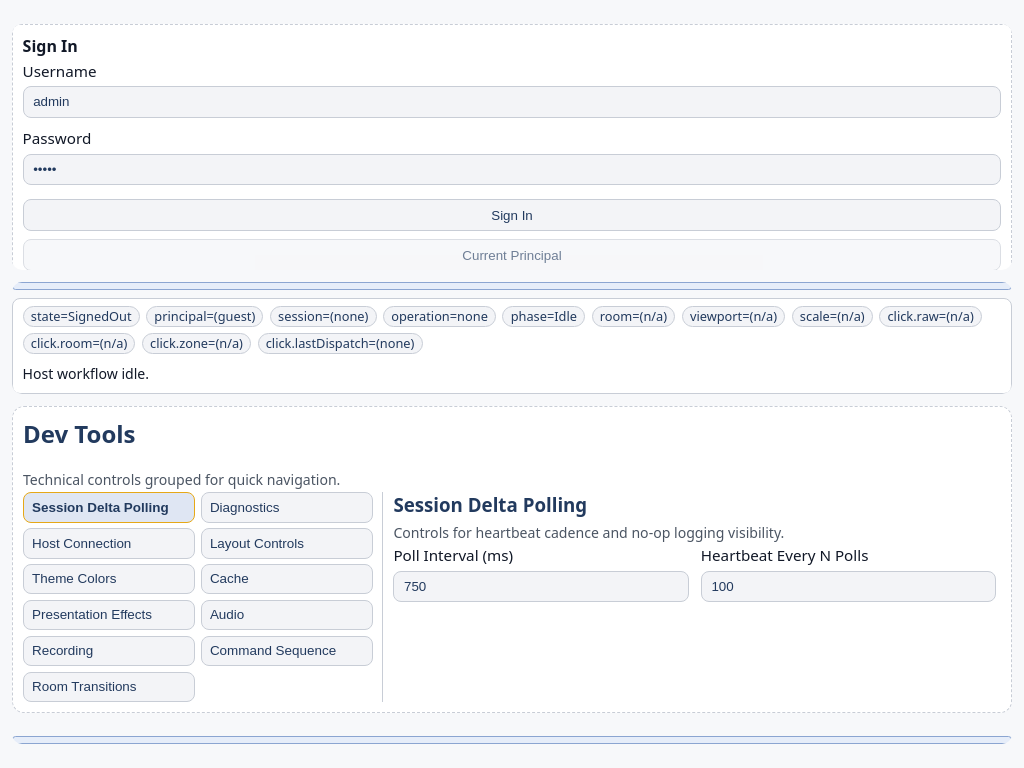
Test: App override behavior › keeps trace capture independent from console visibility and stopping
Expected: the heading "Dev Tools" is shown, 23,417 -> 136,450
Step 1. Click the button "Diagnostics" → [287, 508], box 201,492 -> 373,523
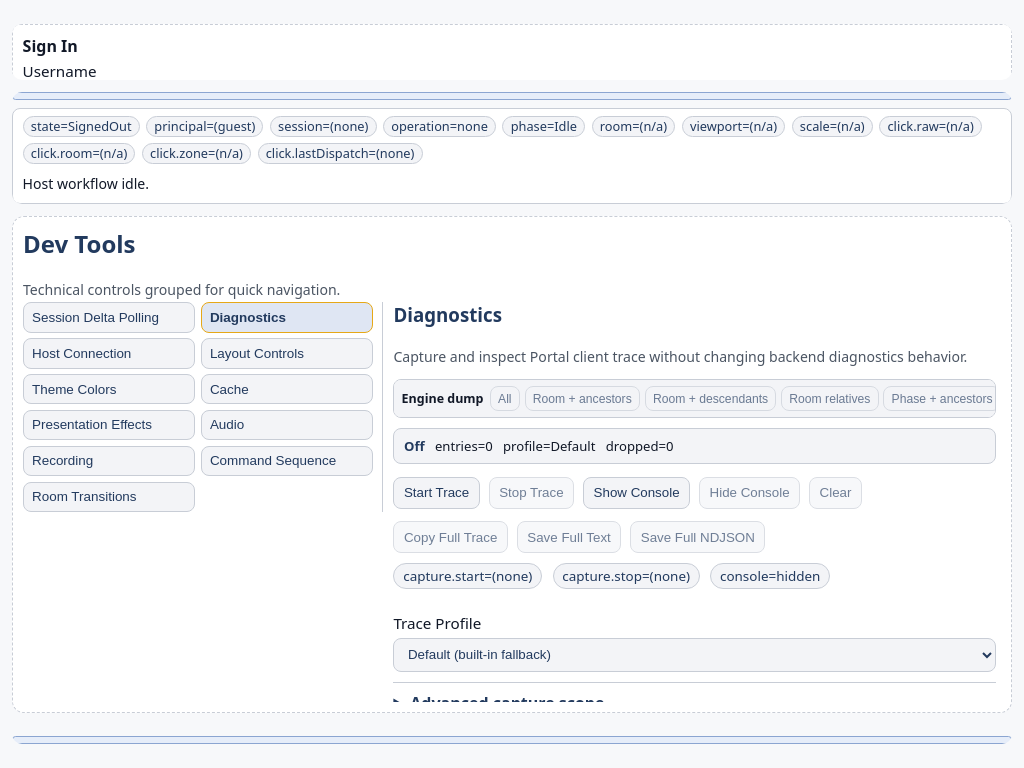
Step 2. Click the button "Start Trace" → [437, 493], box 393,477 -> 480,509
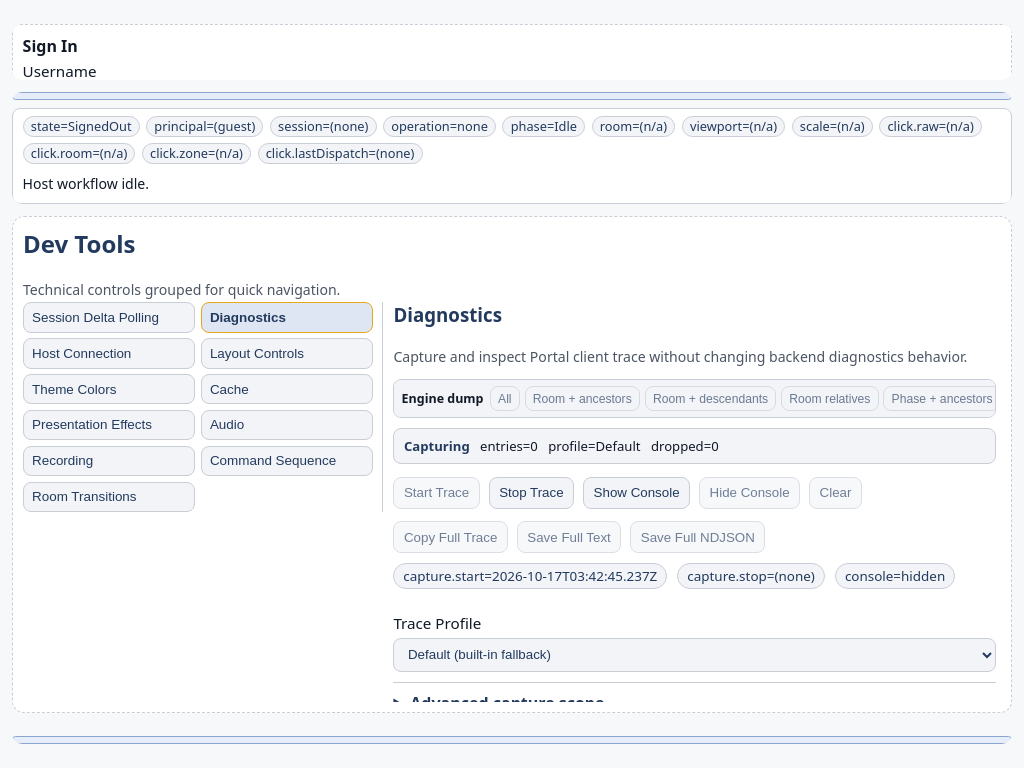
Result: the element with test id "diagnostics-capture-status" shows "Capturing" at 404,437 -> 470,455
Step 3. Click the button "Show Console" → [637, 493], box 583,477 -> 690,509
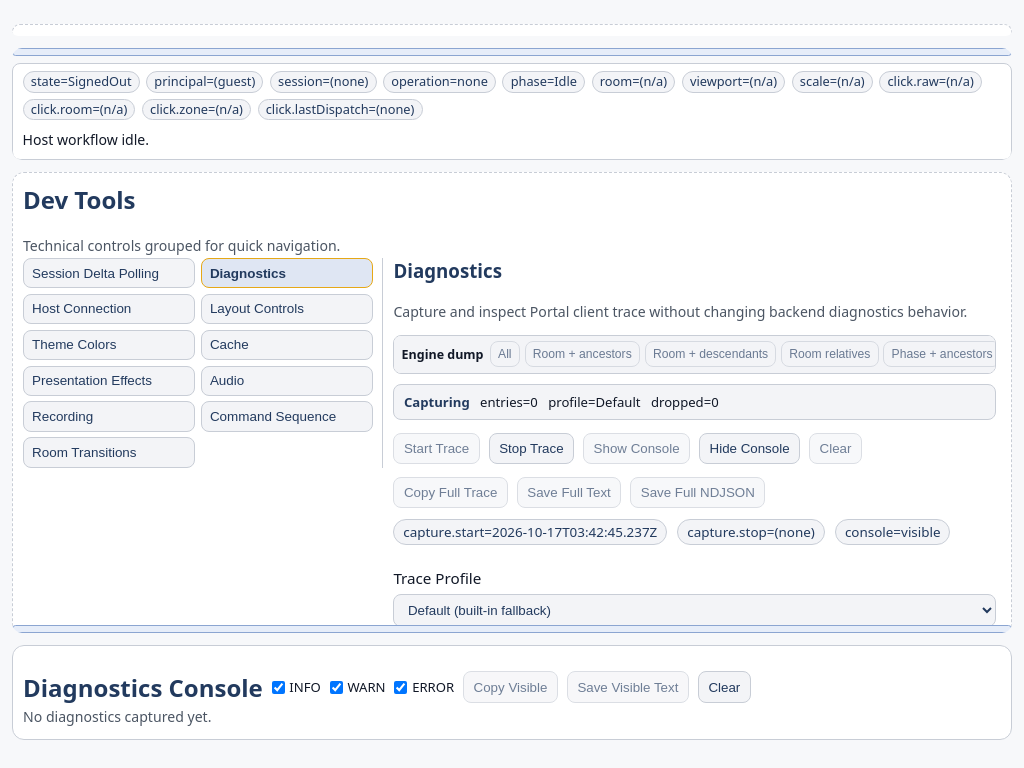
Step 4. Click the button "Hide Console" → [750, 448], box 699,433 -> 800,464
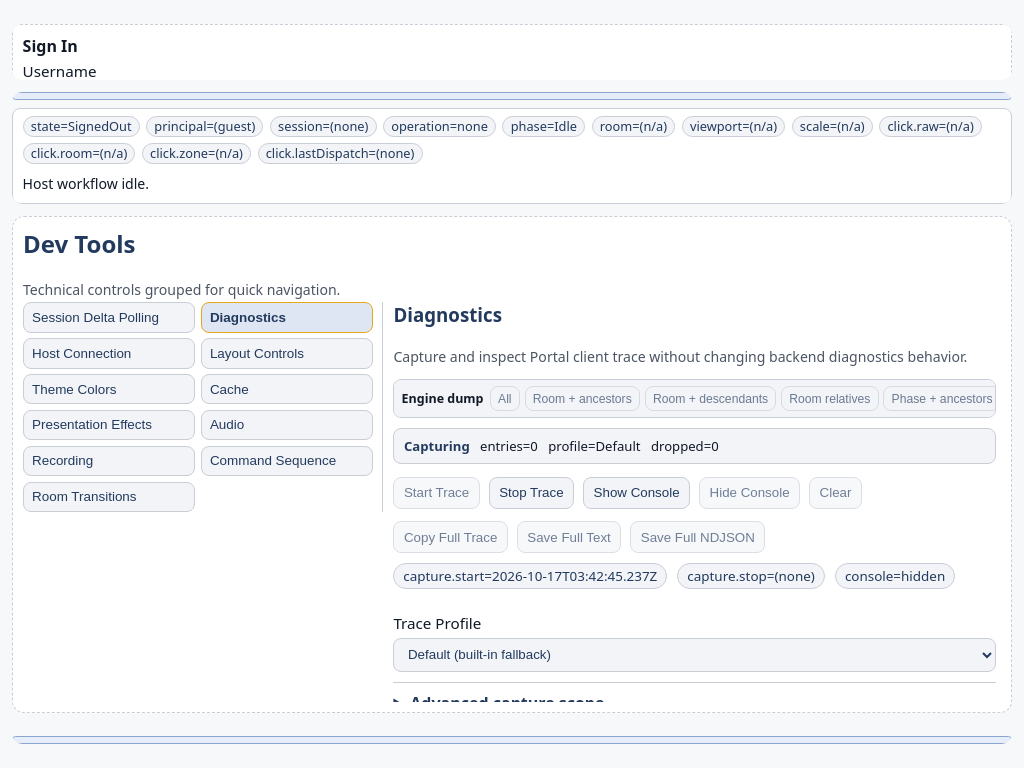
Result: the element with test id "diagnostics-capture-status" shows "Capturing" at 404,437 -> 470,455
Step 5. Click the button "Show Console" → [637, 493], box 583,477 -> 690,509
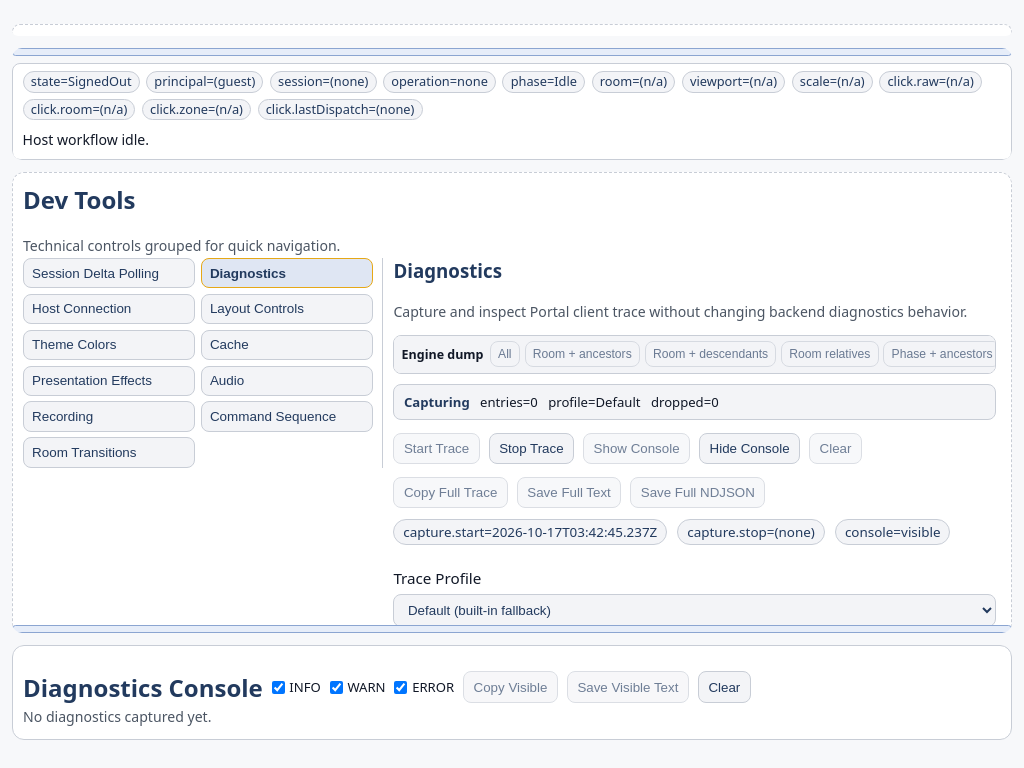
Step 6. Click the button "Stop Trace" → [531, 448], box 489,433 -> 574,464
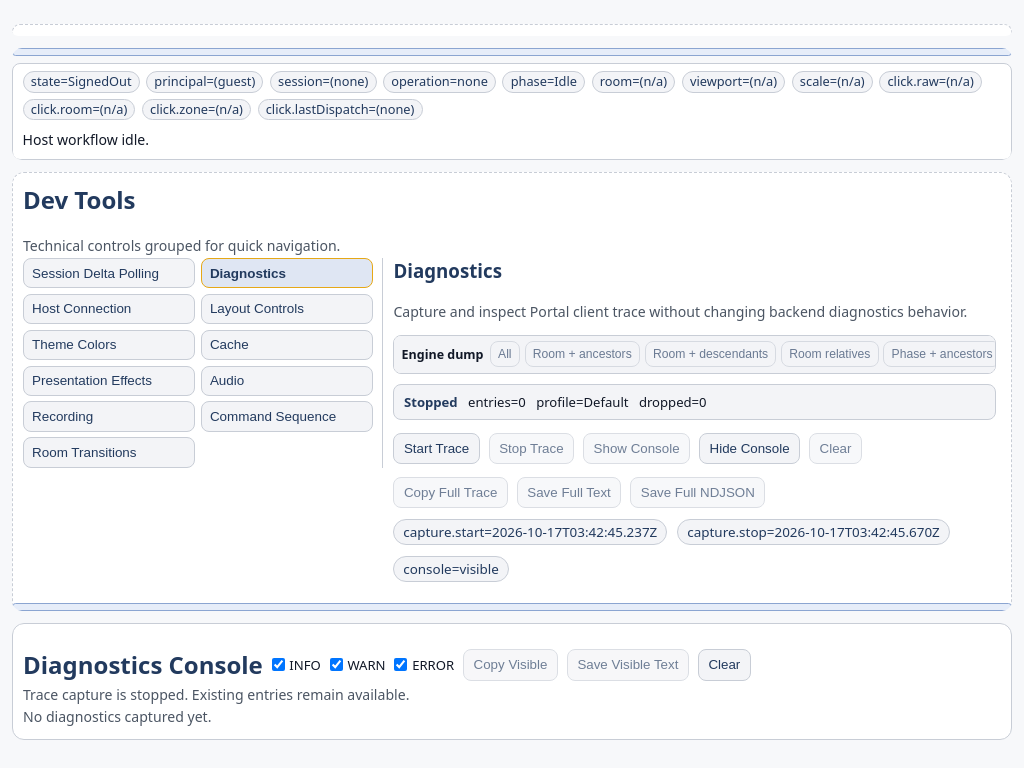
Result: the element with test id "diagnostics-capture-status" shows "Stopped" at 404,393 -> 458,411
Result: the text "Trace capture is stopped. Existing entries remain available." is shown at 23,685 -> 409,704
